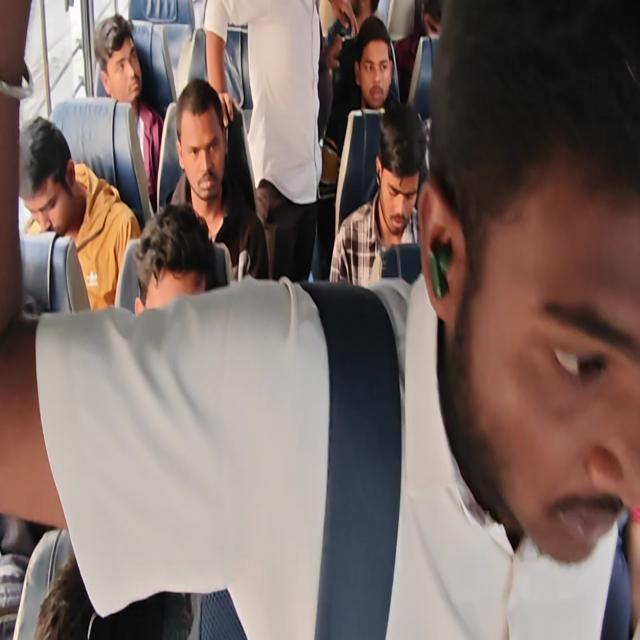person: (439, 3, 640, 564), (26, 521, 195, 640), (132, 192, 226, 322), (7, 119, 90, 234), (171, 73, 233, 197), (90, 11, 152, 102), (373, 96, 415, 227), (359, 7, 390, 110), (421, 0, 441, 43)
